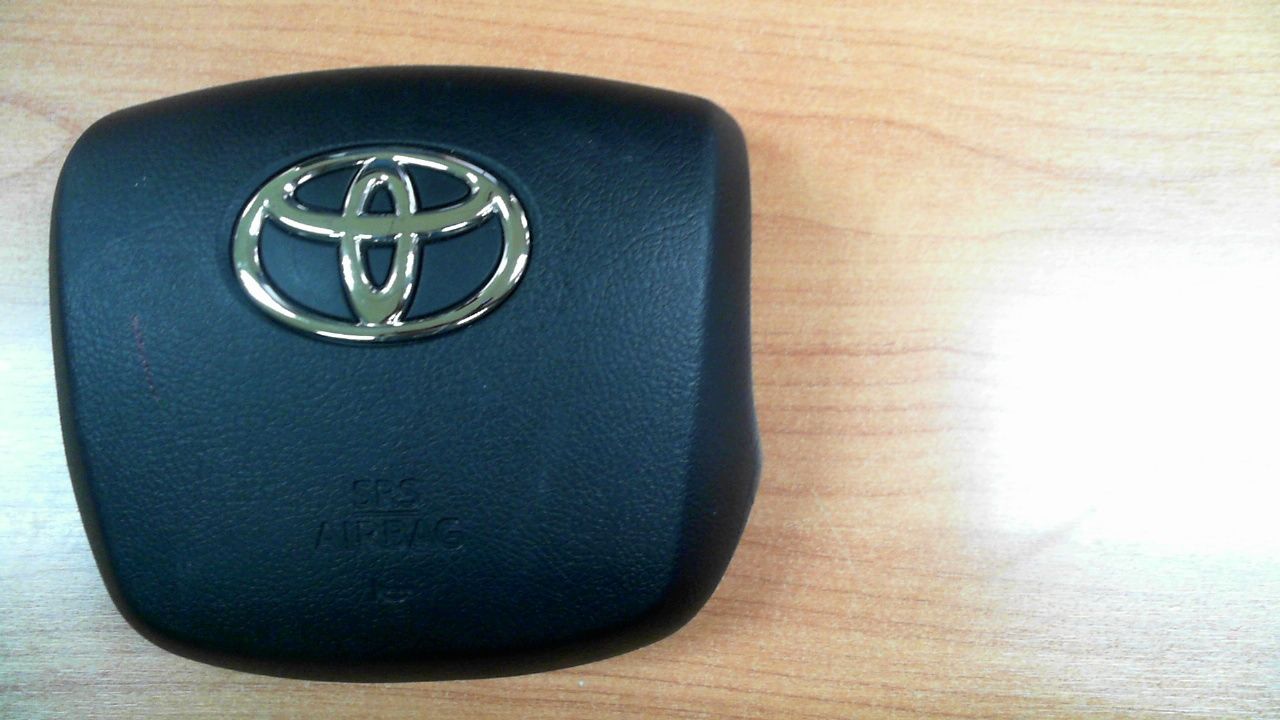Airbag: (47, 65, 762, 686)
Toyota: (232, 146, 531, 343)
